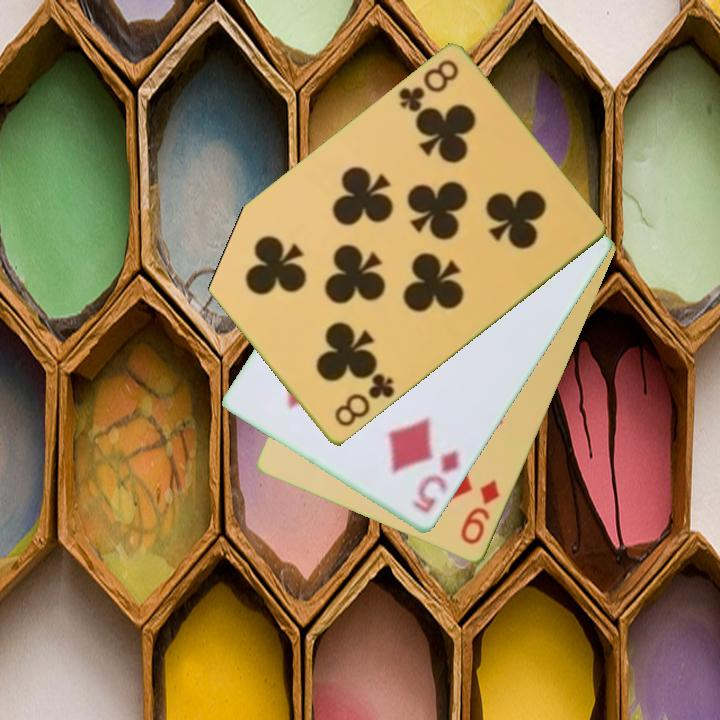5d: (408, 447, 463, 517)
8c: (330, 370, 398, 431), (394, 56, 462, 116)
9d: (457, 477, 504, 548)
